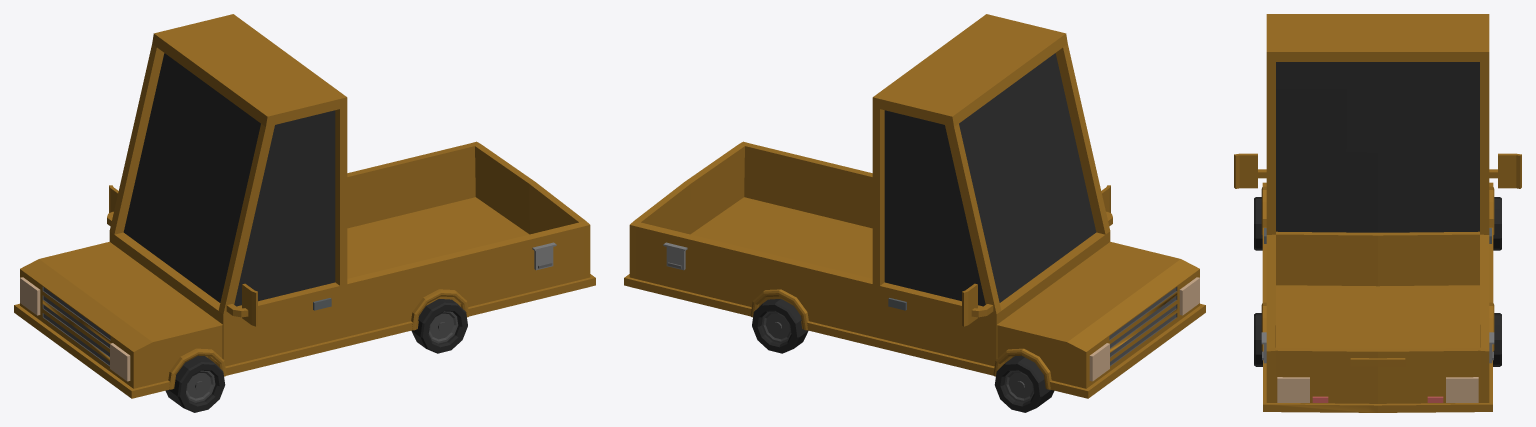
File: small gaadi.fbx
3 renders of one model, left to right at view 1: azimuth 30°, elevation 25°; view 2: azimuth 150°, elevation 25°; view 3: azimuth 270°, elevation 25°, orthographic. The views are drawn at different scales.
Parts seen in each view (by area): view 1: CarColored.000_Cube.042, CarColored.000_Cube.016, CarColored.000_Cube.039, CarColored.000_Cube.038, CarColored.000_Cube.047, CarColored.000_Cube.045, CarColored.000_Cube.018, CarColored.000_Cube.052, CarColored.000_Cube.030, CarColored.000_Cube.032, CarColored.000_Cube.031, CarColored.000_Cube.035 (+15 smaller); view 2: CarColored.000_Cube.032, CarColored.000_Cube.018, CarColored.000_Cube.036, CarColored.000_Cube.042, CarColored.000_Cube.035, CarColored.000_Cube.031, CarColored.000_Cube.038, CarColored.000_Cube.016, CarColored.000_Cube.019, CarColored.000_Cube.045, CarColored.000_Cube.021, CarColored.000_Cube.030 (+16 smaller); view 3: CarColored.000_Cube.049, CarColored.000_Cube.029, CarColored.000_Cube.016, CarColored.000_Cube.018, CarColored.000_Cube.025, CarColored.000_Cube.044, CarColored.000_Cube.026, CarColored.000_Cube.046, CarColored.000_Cube.043, CarColored.000_Cube.024, CarColored.000_Cube.052, CarColored.000_Cube.021 (+13 smaller).
Boxes of the visible parts, x1=… form: CarColored.000_Cube.042: x1=204, y1=58, x2=308, y2=188; CarColored.000_Cube.016: x1=423, y1=141, x2=534, y2=239; CarColored.000_Cube.039: x1=111, y1=273, x2=226, y2=412; CarColored.000_Cube.038: x1=44, y1=290, x2=174, y2=398; CarColored.000_Cube.047: x1=177, y1=212, x2=339, y2=326; CarColored.000_Cube.045: x1=189, y1=145, x2=288, y2=253; CarColored.000_Cube.018: x1=468, y1=182, x2=595, y2=299; CarColored.000_Cube.052: x1=347, y1=257, x2=489, y2=353; CarColored.000_Cube.030: x1=138, y1=31, x2=216, y2=144; CarColored.000_Cube.032: x1=107, y1=169, x2=188, y2=272; CarColored.000_Cube.031: x1=123, y1=106, x2=203, y2=211; CarColored.000_Cube.035: x1=14, y1=253, x2=110, y2=355; CarColored.000_Cube.032: x1=884, y1=212, x2=1052, y2=326; CarColored.000_Cube.018: x1=685, y1=141, x2=796, y2=247; CarColored.000_Cube.036: x1=954, y1=273, x2=1095, y2=412; CarColored.000_Cube.042: x1=960, y1=24, x2=1081, y2=144; CarColored.000_Cube.035: x1=1045, y1=300, x2=1146, y2=398; CarColored.000_Cube.031: x1=931, y1=145, x2=1030, y2=253; CarColored.000_Cube.038: x1=1096, y1=253, x2=1205, y2=365; CarColored.000_Cube.016: x1=624, y1=182, x2=690, y2=299; CarColored.000_Cube.019: x1=743, y1=155, x2=847, y2=258; CarColored.000_Cube.045: x1=1016, y1=106, x2=1095, y2=211; CarColored.000_Cube.021: x1=730, y1=275, x2=824, y2=353; CarColored.000_Cube.030: x1=943, y1=75, x2=1015, y2=188; CarColored.000_Cube.049: x1=1234, y1=186, x2=1377, y2=286; CarColored.000_Cube.029: x1=1378, y1=211, x2=1491, y2=286; CarColored.000_Cube.016: x1=1378, y1=325, x2=1494, y2=412; CarColored.000_Cube.018: x1=1261, y1=325, x2=1377, y2=412; CarColored.000_Cube.025: x1=1378, y1=89, x2=1489, y2=159; CarColored.000_Cube.044: x1=1266, y1=89, x2=1377, y2=159; CarColored.000_Cube.026: x1=1378, y1=151, x2=1489, y2=214; CarColored.000_Cube.046: x1=1266, y1=151, x2=1377, y2=214; CarColored.000_Cube.043: x1=1266, y1=33, x2=1397, y2=92; CarColored.000_Cube.024: x1=1378, y1=33, x2=1489, y2=92; CarColored.000_Cube.052: x1=1254, y1=302, x2=1394, y2=366; CarColored.000_Cube.021: x1=1378, y1=302, x2=1501, y2=366.
Bounding box in the file's own units: 194 × 109 × 106.
